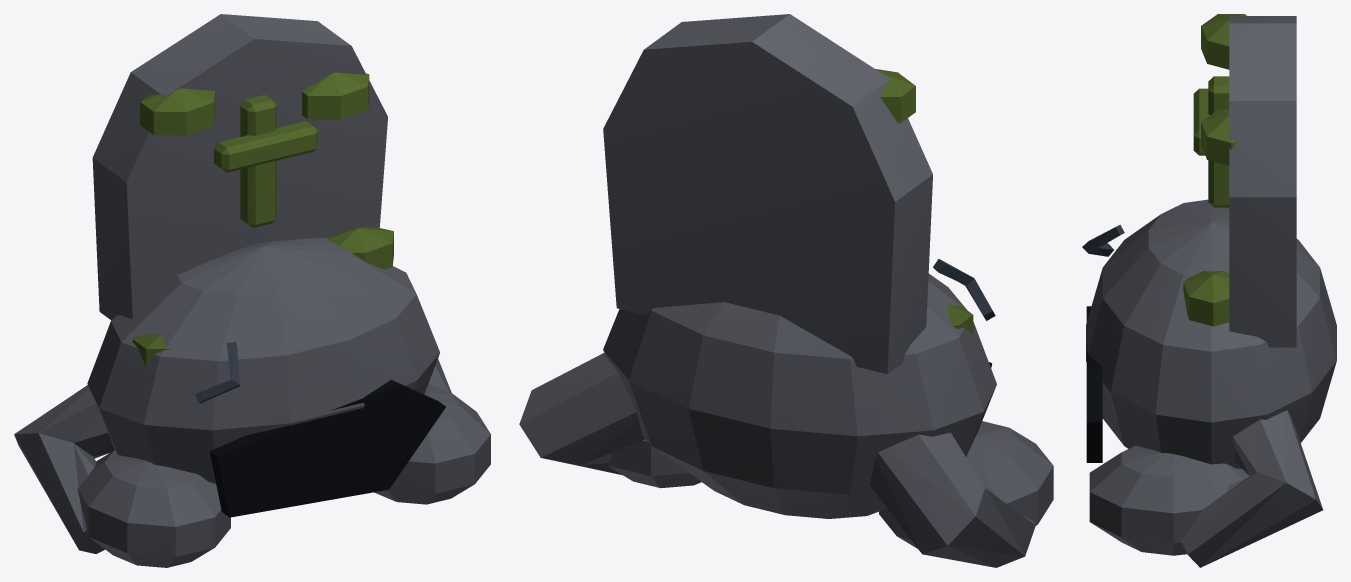
File: grave_hopper.fbx
3 renders of one model, left to right at view 1: azimuth 30°, elevation 25°; view 2: azimuth 150°, elevation 25°; view 3: azimuth 270°, elevation 25°, orthographic. The views are drawn at different scales.
Visible parts, largest first — view 1: grave_hopper; view 2: grave_hopper; view 3: grave_hopper.
Boxes of the visible parts, <box> form: grave_hopper: <box>14,14,490,567</box>; grave_hopper: <box>519,14,1053,567</box>; grave_hopper: <box>1082,14,1336,567</box>.
Bounding box in the file's own units: 2.34 × 2.56 × 1.29.
